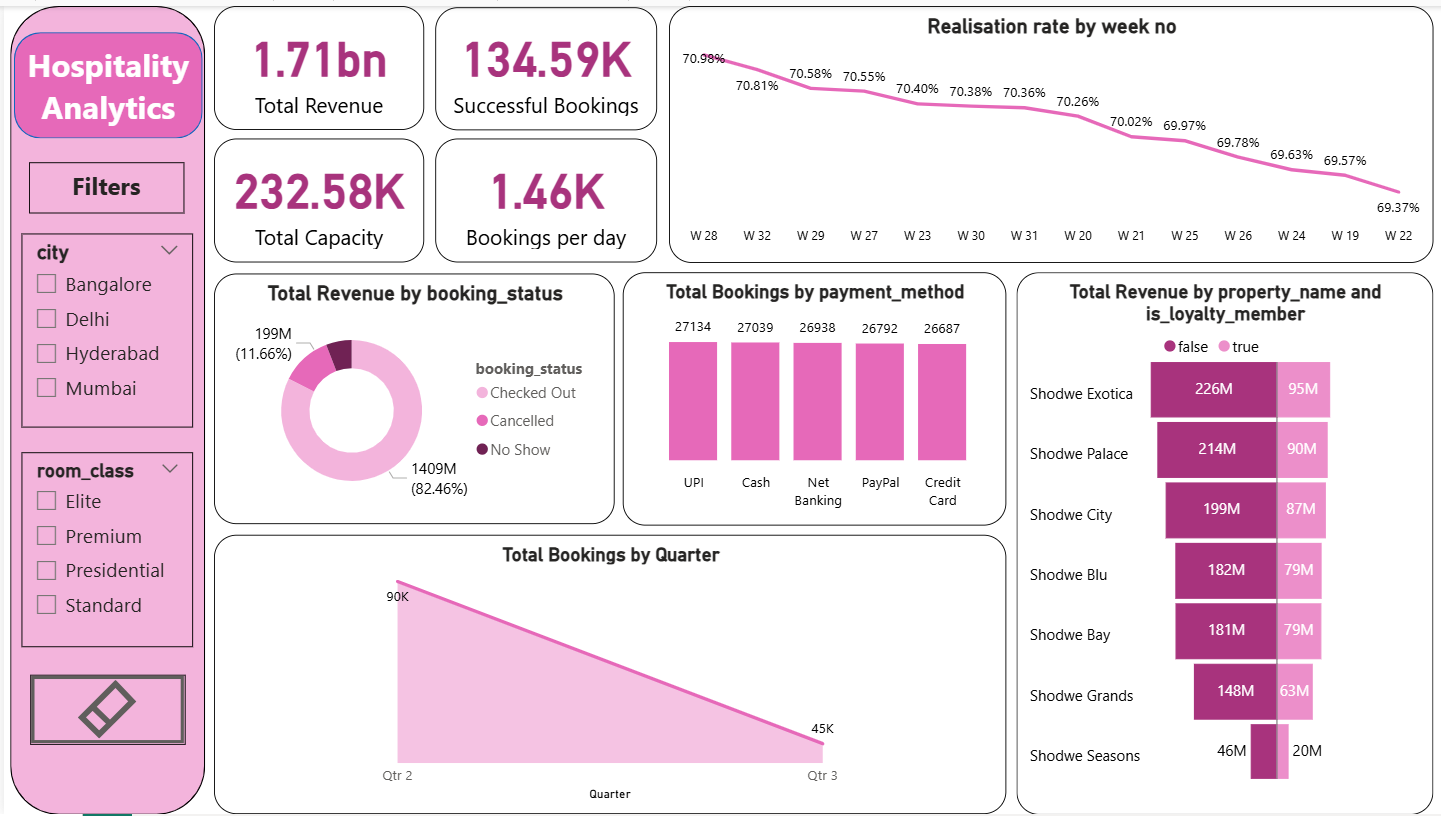

The page's visual inventory and layout, read from the dashboard file:
{"tool":"powerbi","page":{"name":"Page 1","canvas":[1280,720],"ordinal":0},"visuals":[{"type":"shape","box":[5.6,0,173.6,720.2],"z":0},{"type":"shape","box":[9,23.7,167.9,94.7],"z":1000},{"type":"slicer","fields":{"Values":["dim_hotels.city"]},"box":[15.9,203,152.9,172.4],"z":2000},{"type":"slicer","fields":{"Values":["dim_rooms.room_class"]},"box":[15.9,397.4,152.9,173.6],"z":3000},{"type":"textbox","box":[22,139.4,138.2,45.2],"z":4000},{"type":"card","fields":{"Values":["Fact_bookings.Total Revenue"]},"box":[187.1,0,187.1,110.5],"z":5000},{"type":"card","fields":{"Values":["Fact_bookings.Total Capacity"]},"box":[187.1,118.3,187.1,110.5],"z":6000},{"type":"card","fields":{"Values":["Fact_bookings.Total Successful Bookings"]},"box":[384.3,1.1,197.2,109.3],"z":7000},{"type":"card","fields":{"Values":["Fact_bookings.Daily Booked Room Nights"]},"box":[384.3,118.3,197.2,110.5],"z":8000},{"type":"actionButton","box":[23.2,595.5,138.2,62.4],"z":9000},{"type":"lineChart","fields":{"Category":["dim_date.week no"],"Y":["Fact_bookings.Realisation rate"]},"box":[591.7,0,680.8,228.8],"z":10000},{"type":"donutChart","fields":{"Y":["Fact_bookings.Total Revenue"],"Category":["Fact_bookings.booking_status"]},"box":[187,237.7,357.1,223.2],"z":11000},{"type":"TornadoChart1452517688218","fields":{"Category":["dim_hotels.property_name"],"Values":["Fact_bookings.Total Revenue"],"Series":["Fact_bookings.is_loyalty_member"]},"box":[901.7,236.7,370.8,483.5],"z":12000},{"type":"clusteredColumnChart","fields":{"Category":["Fact_bookings.payment_method"],"Y":["Fact_bookings.Total Bookings"]},"box":[551.2,236.7,341.5,225.4],"z":13000},{"type":"areaChart","fields":{"Category":["dim_date.date.Variation.Date Hierarchy.Quarter","dim_date.date.Variation.Date Hierarchy.Month","dim_date.date.Variation.Date Hierarchy.Day"],"Y":["Fact_bookings.Total Bookings"]},"box":[187.1,471.1,705.6,249.1],"z":14000}]}

Visuals, with their boxes in screenshot pixels (x1, y1, x2, y2), scaled from the page's 1280x720 canvas onto the 1441x816 screenshot:
shape: 6, 0, 202, 815
shape: 10, 27, 199, 134
slicer - dim_hotels.city: 18, 230, 190, 425
slicer - dim_rooms.room_class: 18, 450, 190, 647
textbox: 25, 158, 180, 209
card - Fact_bookings.Total Revenue: 211, 0, 421, 125
card - Fact_bookings.Total Capacity: 211, 134, 421, 259
card - Fact_bookings.Total Successful Bookings: 433, 1, 655, 125
card - Fact_bookings.Daily Booked Room Nights: 433, 134, 655, 259
actionButton: 26, 675, 182, 746
lineChart - dim_date.week no x Fact_bookings.Realisation rate: 666, 0, 1433, 259
donutChart - Fact_bookings.Total Revenue x Fact_bookings.booking_status: 211, 269, 613, 522
TornadoChart1452517688218 - dim_hotels.property_name x Fact_bookings.Total Revenue: 1015, 268, 1433, 815
clusteredColumnChart - Fact_bookings.payment_method x Fact_bookings.Total Bookings: 621, 268, 1005, 524
areaChart - dim_date.date.Variation.Date Hierarchy.Quarter x dim_date.date.Variation.Date Hierarchy.Month: 211, 534, 1005, 815
